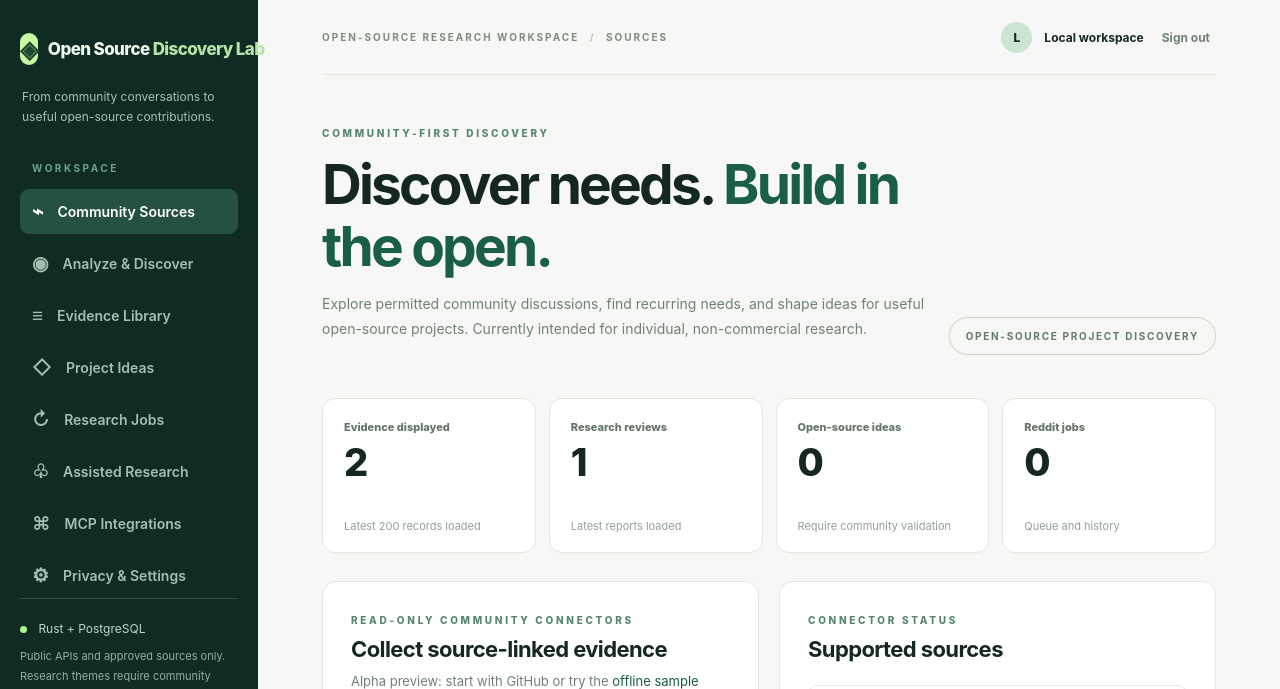
Test: evidence library › renders excerpts, title fallbacks, original links and source attribution
The image size is (1280, 689).
Expected: the button "Sign out" is shown, [1156,28,1216,46]
Step 1. Click the button "≡ Evidence Library" → (129, 315), box [20,293,238,338]
(page scrolled)
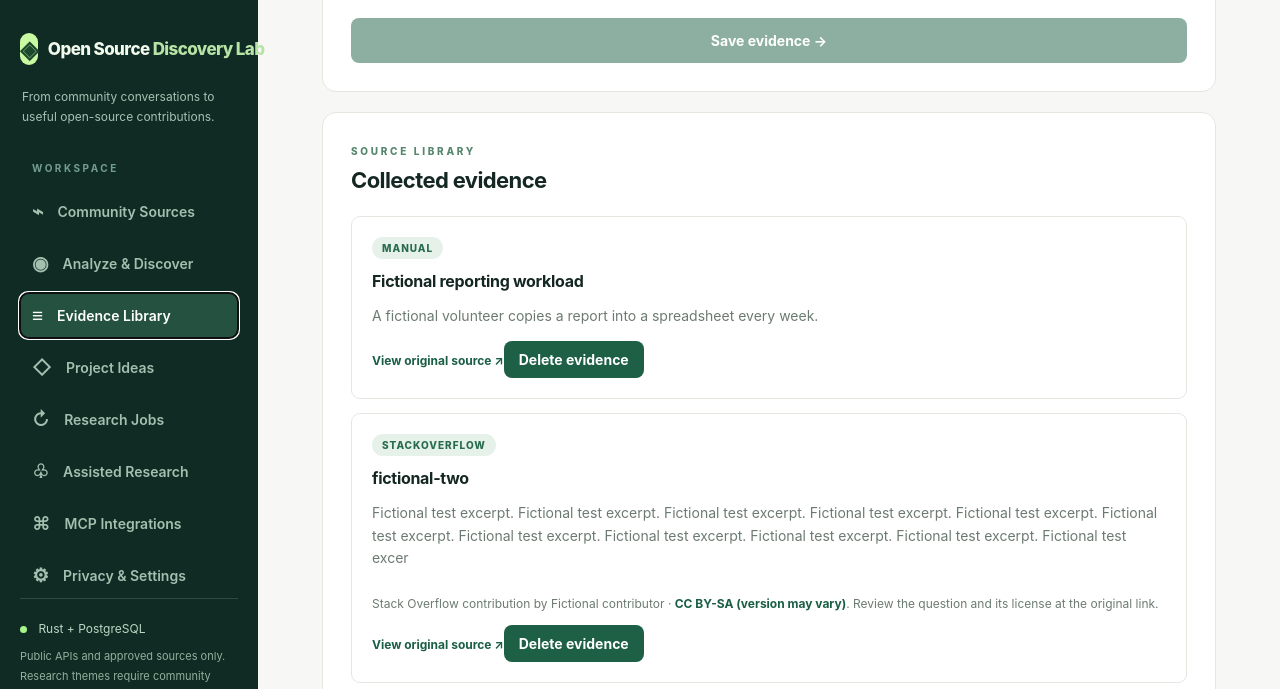
Now the heading "Fictional reporting workload" is shown, box [372,271,584,291]
Now the heading "fictional-two" is shown, box [372,468,469,488]
Now the text "Fictional contributor" is shown, box [530,596,664,611]
